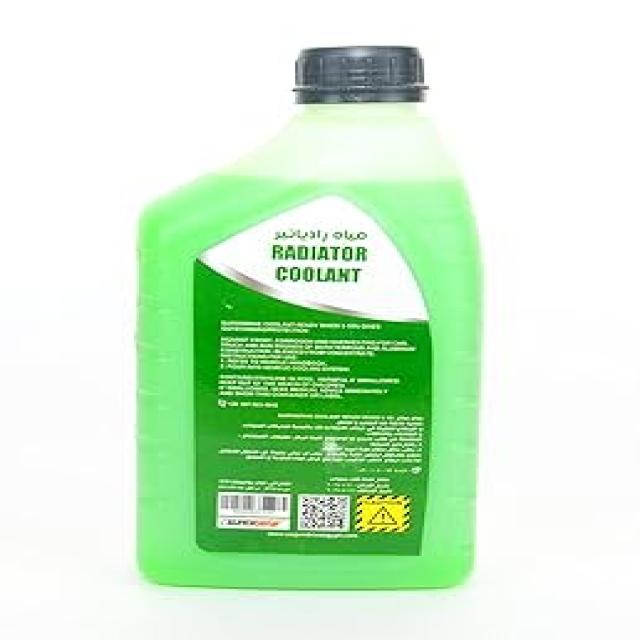coolant: (122, 37, 503, 594)
